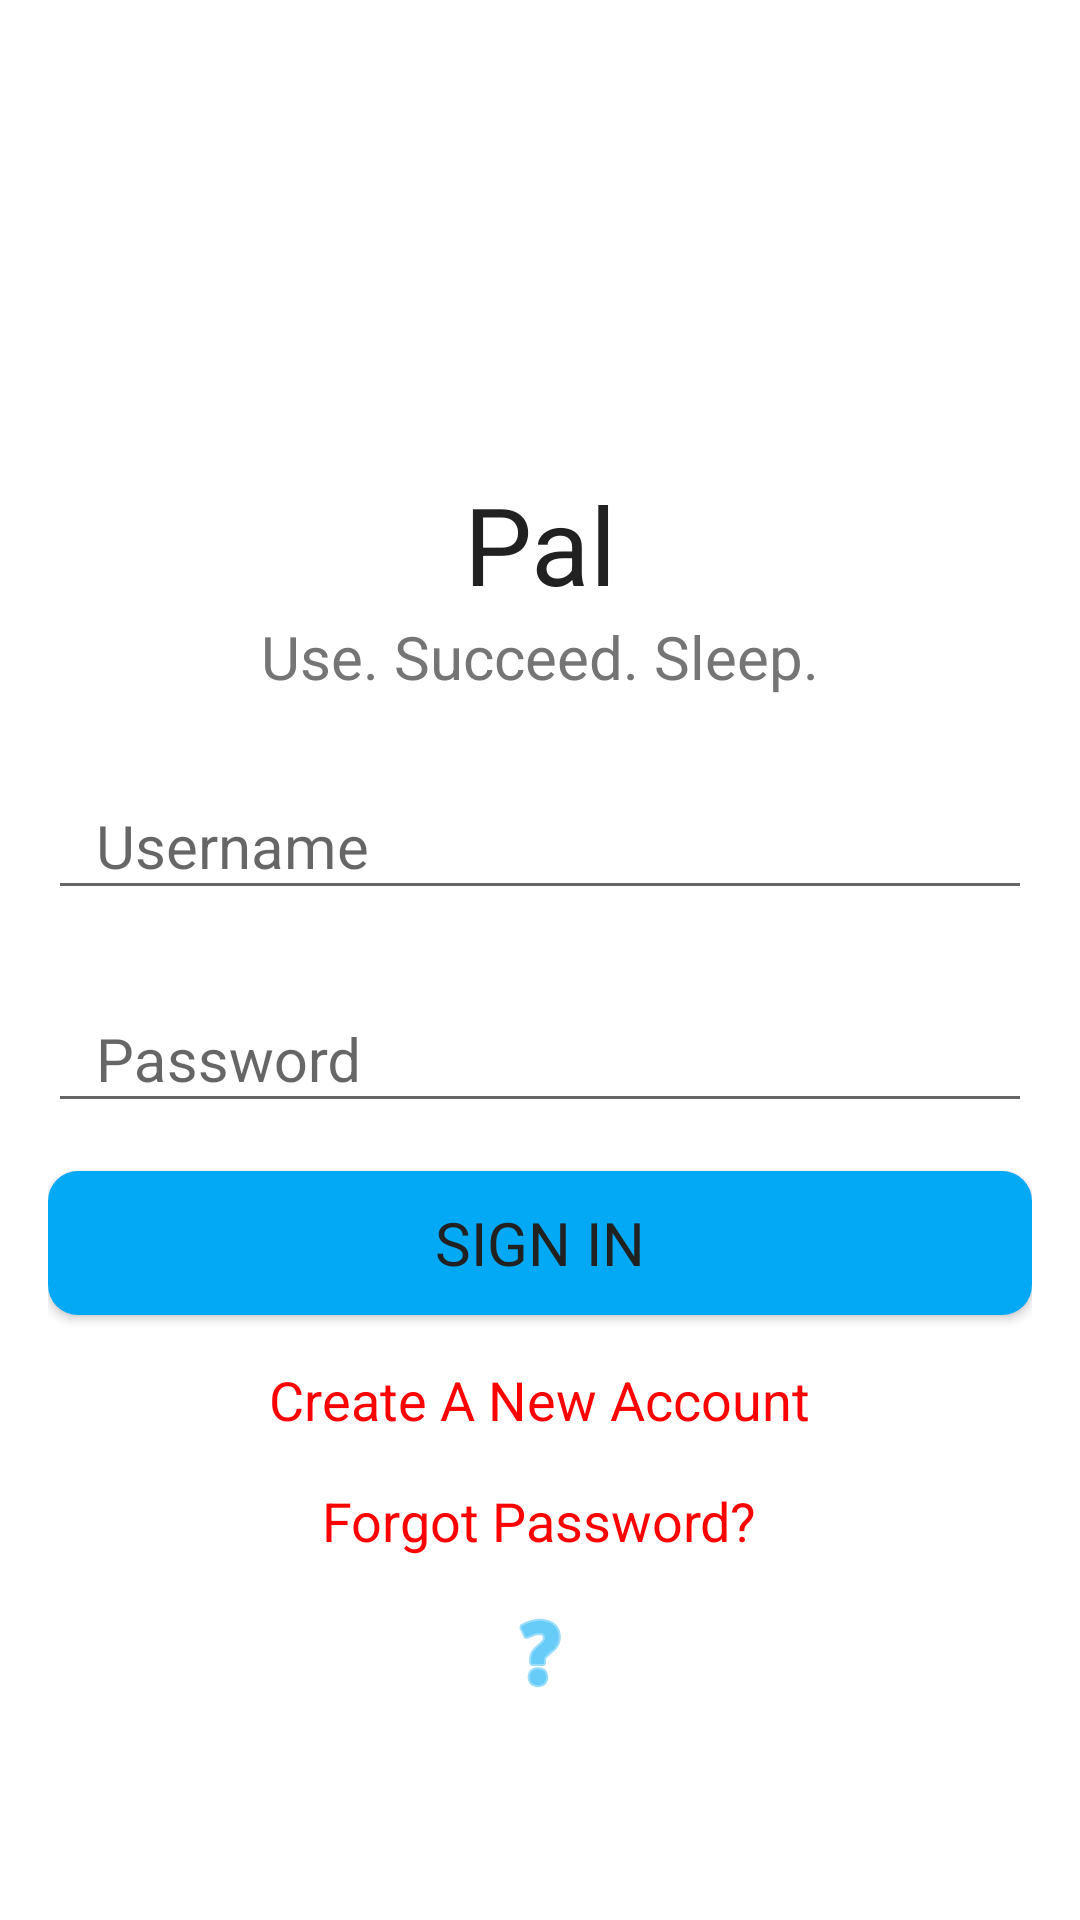

Where icons sit on this 1080px×1920px app screen, as (x1, y1, x2, y2):
Question mark: (519, 1619, 561, 1687)
